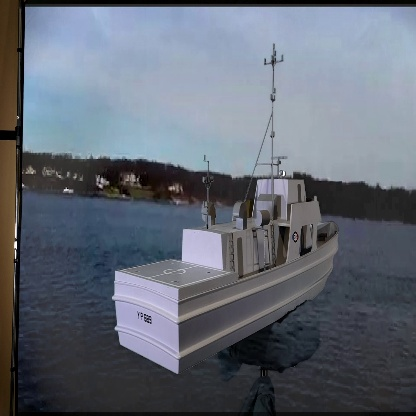YP689: (107, 41, 343, 375)
